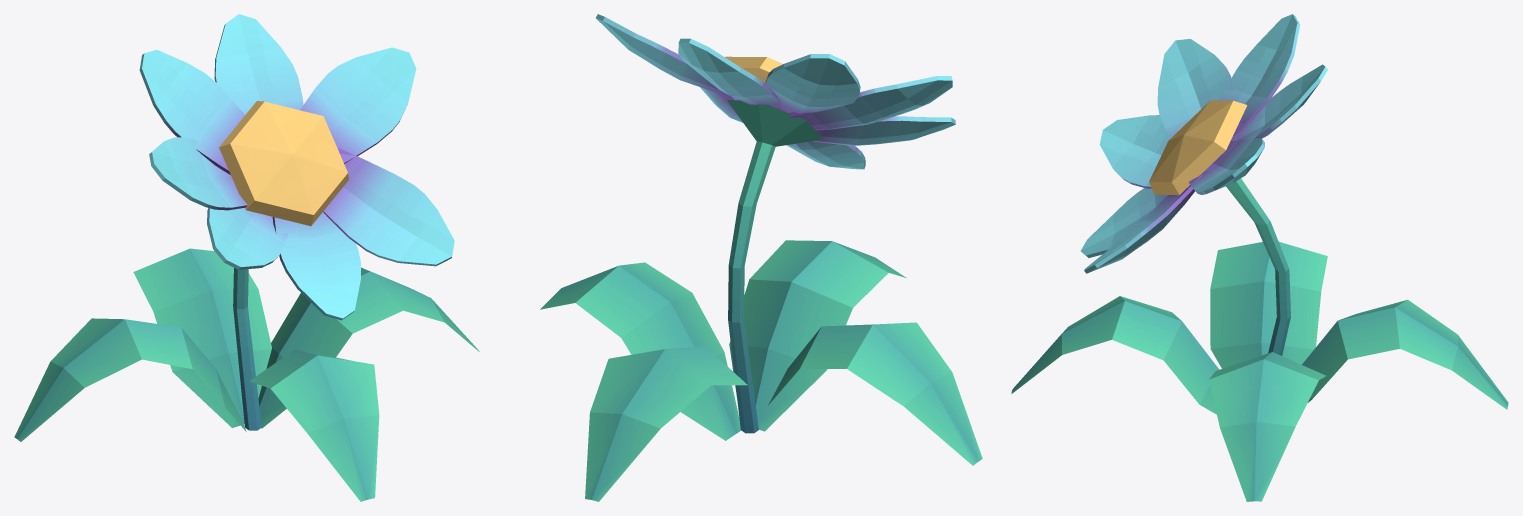
The model's file is blue_one_flower_1.gltf.
3 views of the same model, side by side, from view 1: azimuth 30°, elevation 25°; view 2: azimuth 150°, elevation 25°; view 3: azimuth 270°, elevation 25° (orthographic). The views are drawn at different scales.
Parts seen in each view (by area): view 1: Object_19; view 2: Object_19; view 3: Object_19.
Boxes of the visible parts, x1,y1,x2,y2 form: Object_19: [14, 14, 479, 501]; Object_19: [540, 14, 982, 501]; Object_19: [1011, 14, 1508, 501].
Bounding box in the file's own units: 2.12 × 1.76 × 2.15.
Materials: 1 (1 with a texture image).
